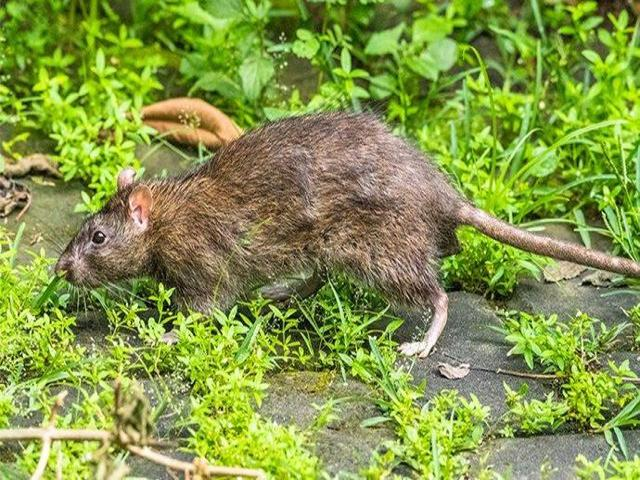Tikus: (55, 111, 551, 298)
